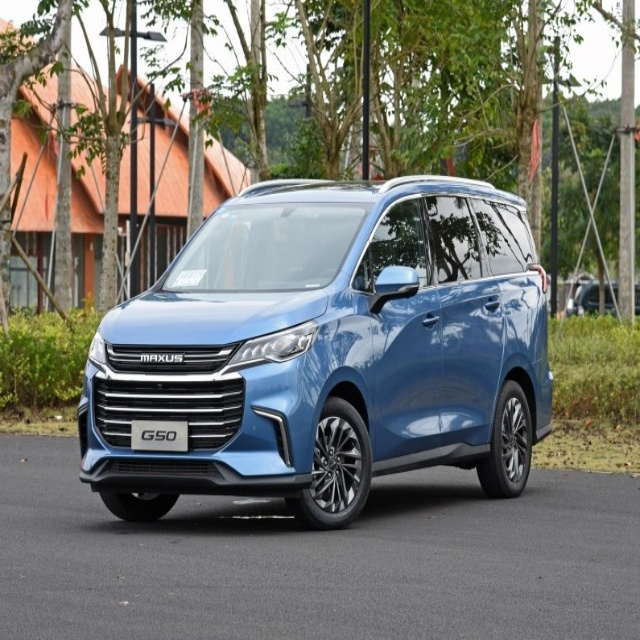Car: (76, 175, 552, 530)
